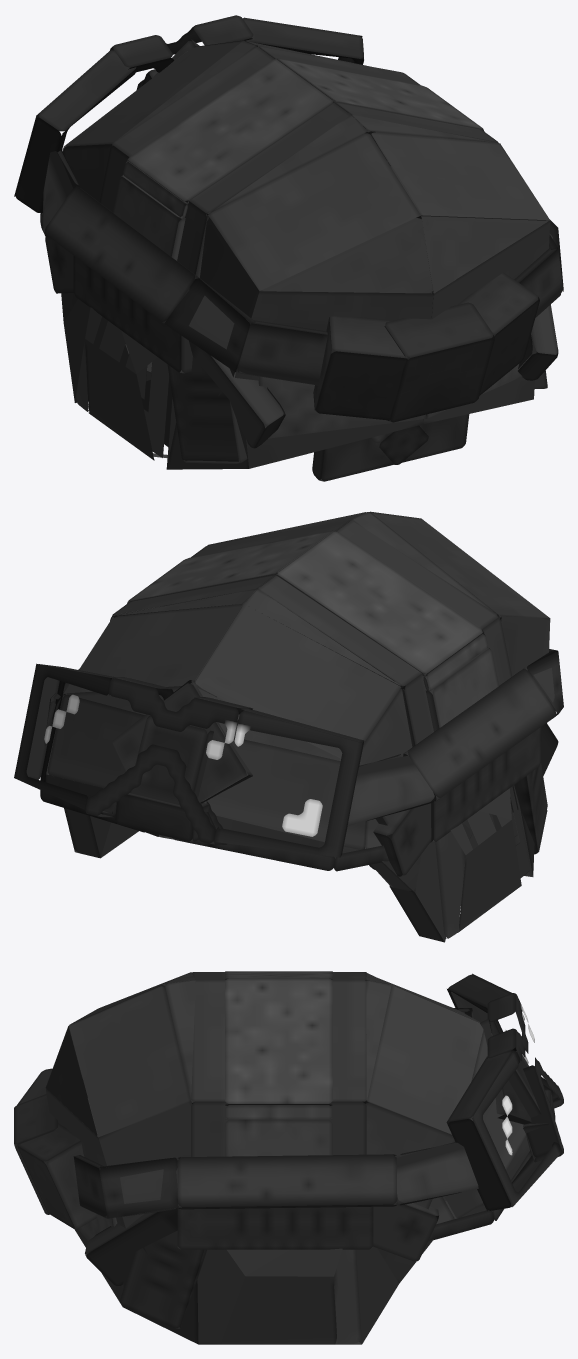
The model's file is swat_kit_h.obj.
3 views of the same model, one above another, from view 1: azimuth 30°, elevation 25°; view 2: azimuth 150°, elevation 25°; view 3: azimuth 270°, elevation 25° (orthographic). The views are drawn at different scales.
Visible parts, largest first — view 1: cube; view 2: cube; view 3: cube.
Boxes of the visible parts, <box> form: cube: <box>14,15,563,481</box>; cube: <box>14,511,563,942</box>; cube: <box>14,971,563,1344</box>.
Bounding box in the file's own units: 0.7693 × 0.5973 × 1.02.
